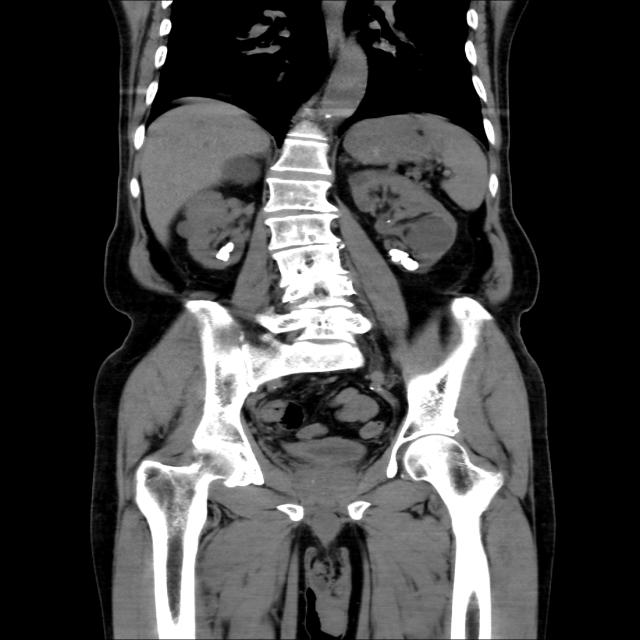kidneystone: (388, 249, 419, 271), (215, 246, 233, 262)
